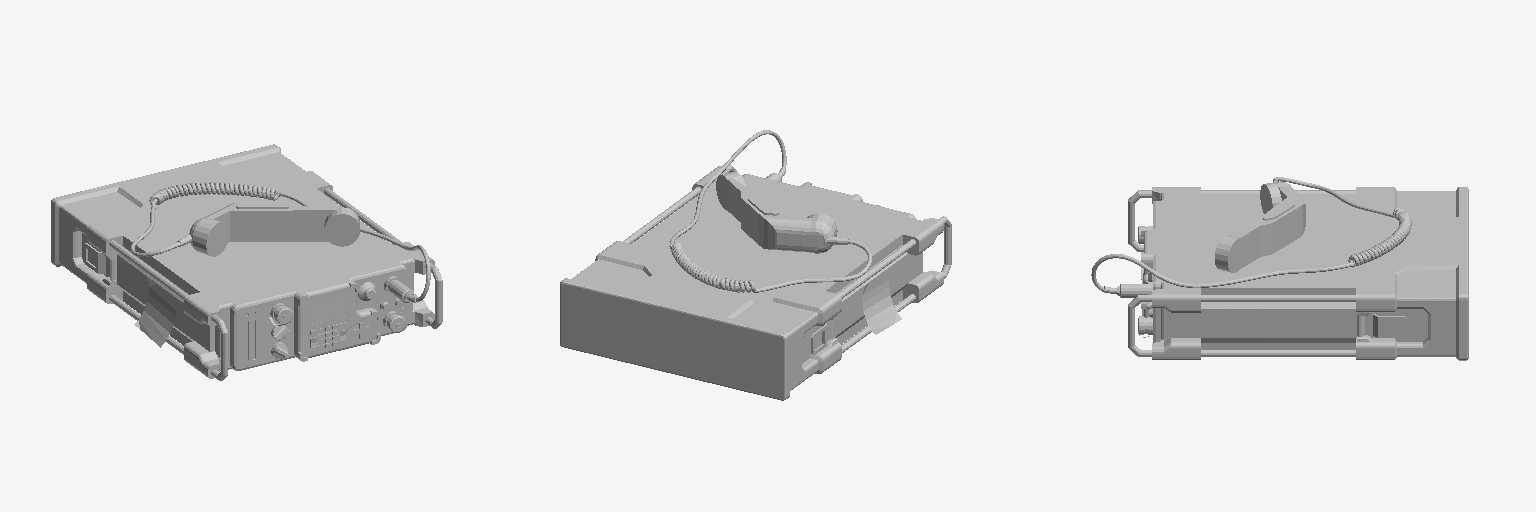
Rendered from Modern Military Radio.obj.
The picture shows the model from 3 angles: view 1: azimuth 30°, elevation 25°; view 2: azimuth 150°, elevation 25°; view 3: azimuth 270°, elevation 25°; orthographic projection.
Parts seen in each view (by area): view 1: desirefx_me_002, desirefx_me_003, desirefx_me_001; view 2: desirefx_me_002, desirefx_me_003; view 3: desirefx_me_002, desirefx_me_003.
Part boxes in pixels (x1,y1,x2,y2): desirefx_me_002: (51,144,442,380); desirefx_me_003: (131,182,430,347); desirefx_me_001: (245,293,347,360); desirefx_me_002: (560,164,951,400); desirefx_me_003: (669,130,901,334); desirefx_me_002: (1117,181,1468,360); desirefx_me_003: (1091,177,1411,337).
Bounding box in the file's own units: 127 × 52.7 × 180.